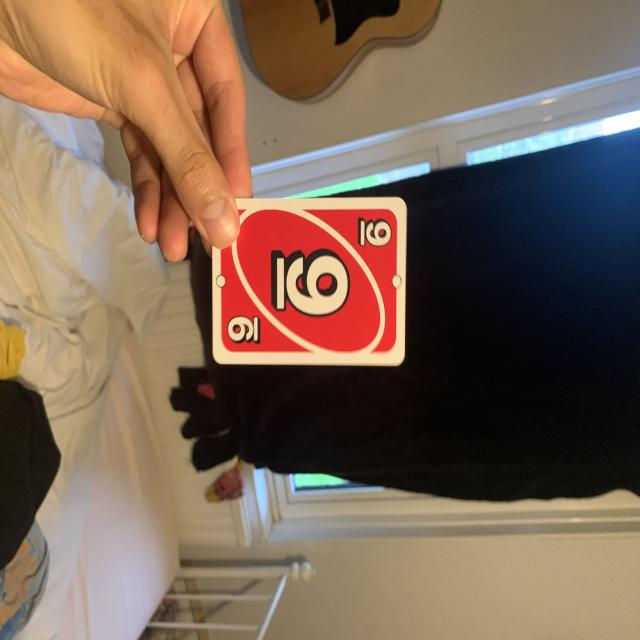lred-9: (351, 214, 396, 251)
